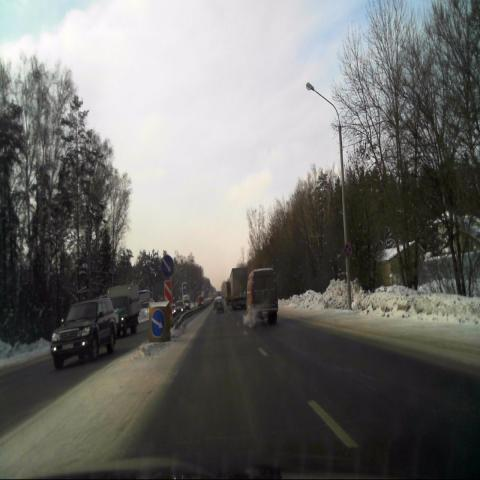4_2_1: (161, 255, 174, 276)
